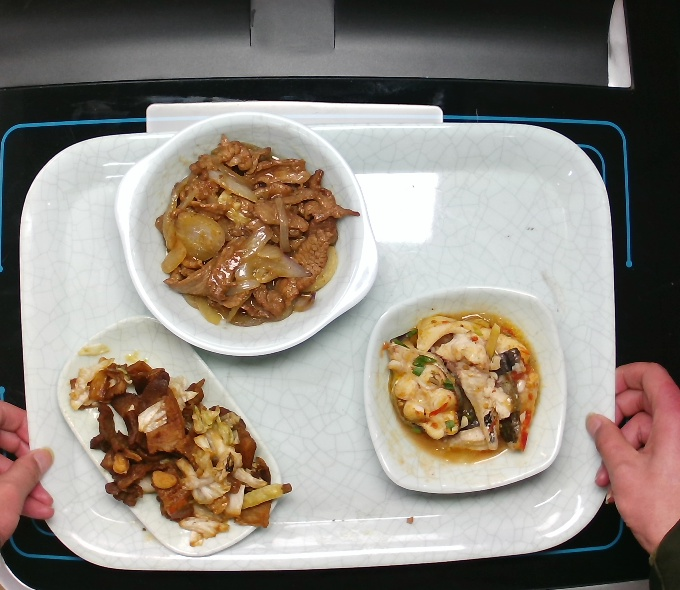wcq-DuoJiaoYuKuai: (386, 310, 547, 461)
wcq-PaoCaiRouPian: (65, 332, 295, 555)
wcq-YangCongRouPian: (138, 135, 363, 326)
